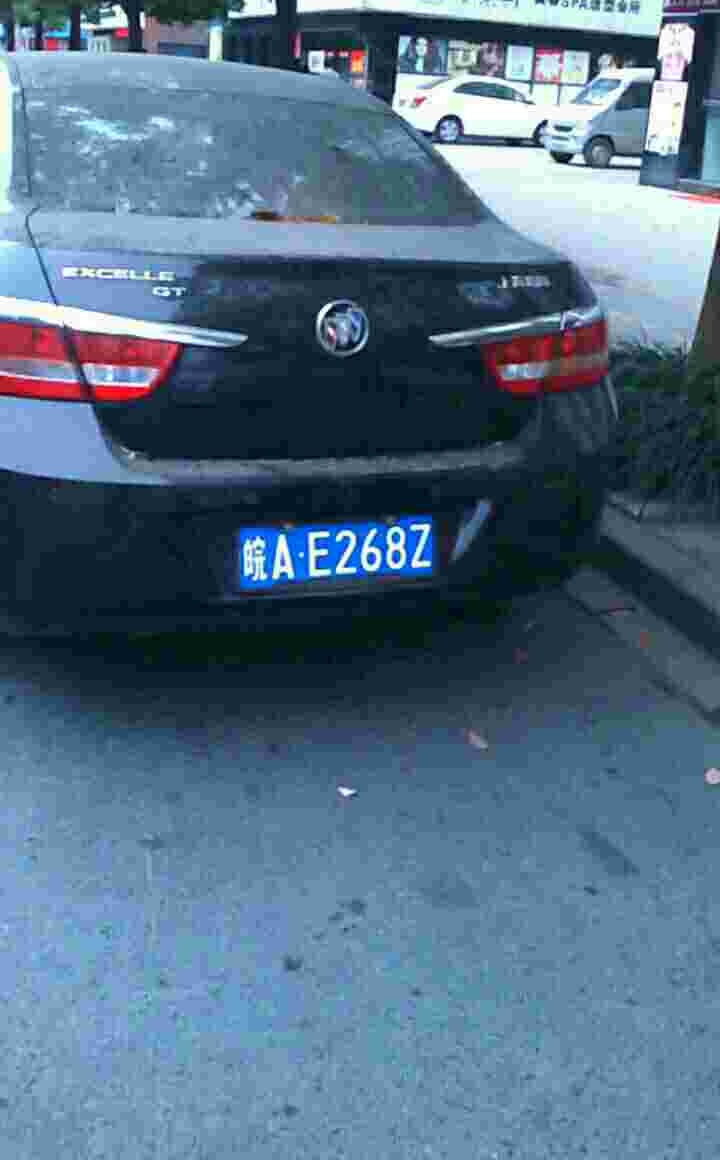license_plate: (239, 524, 442, 590)
